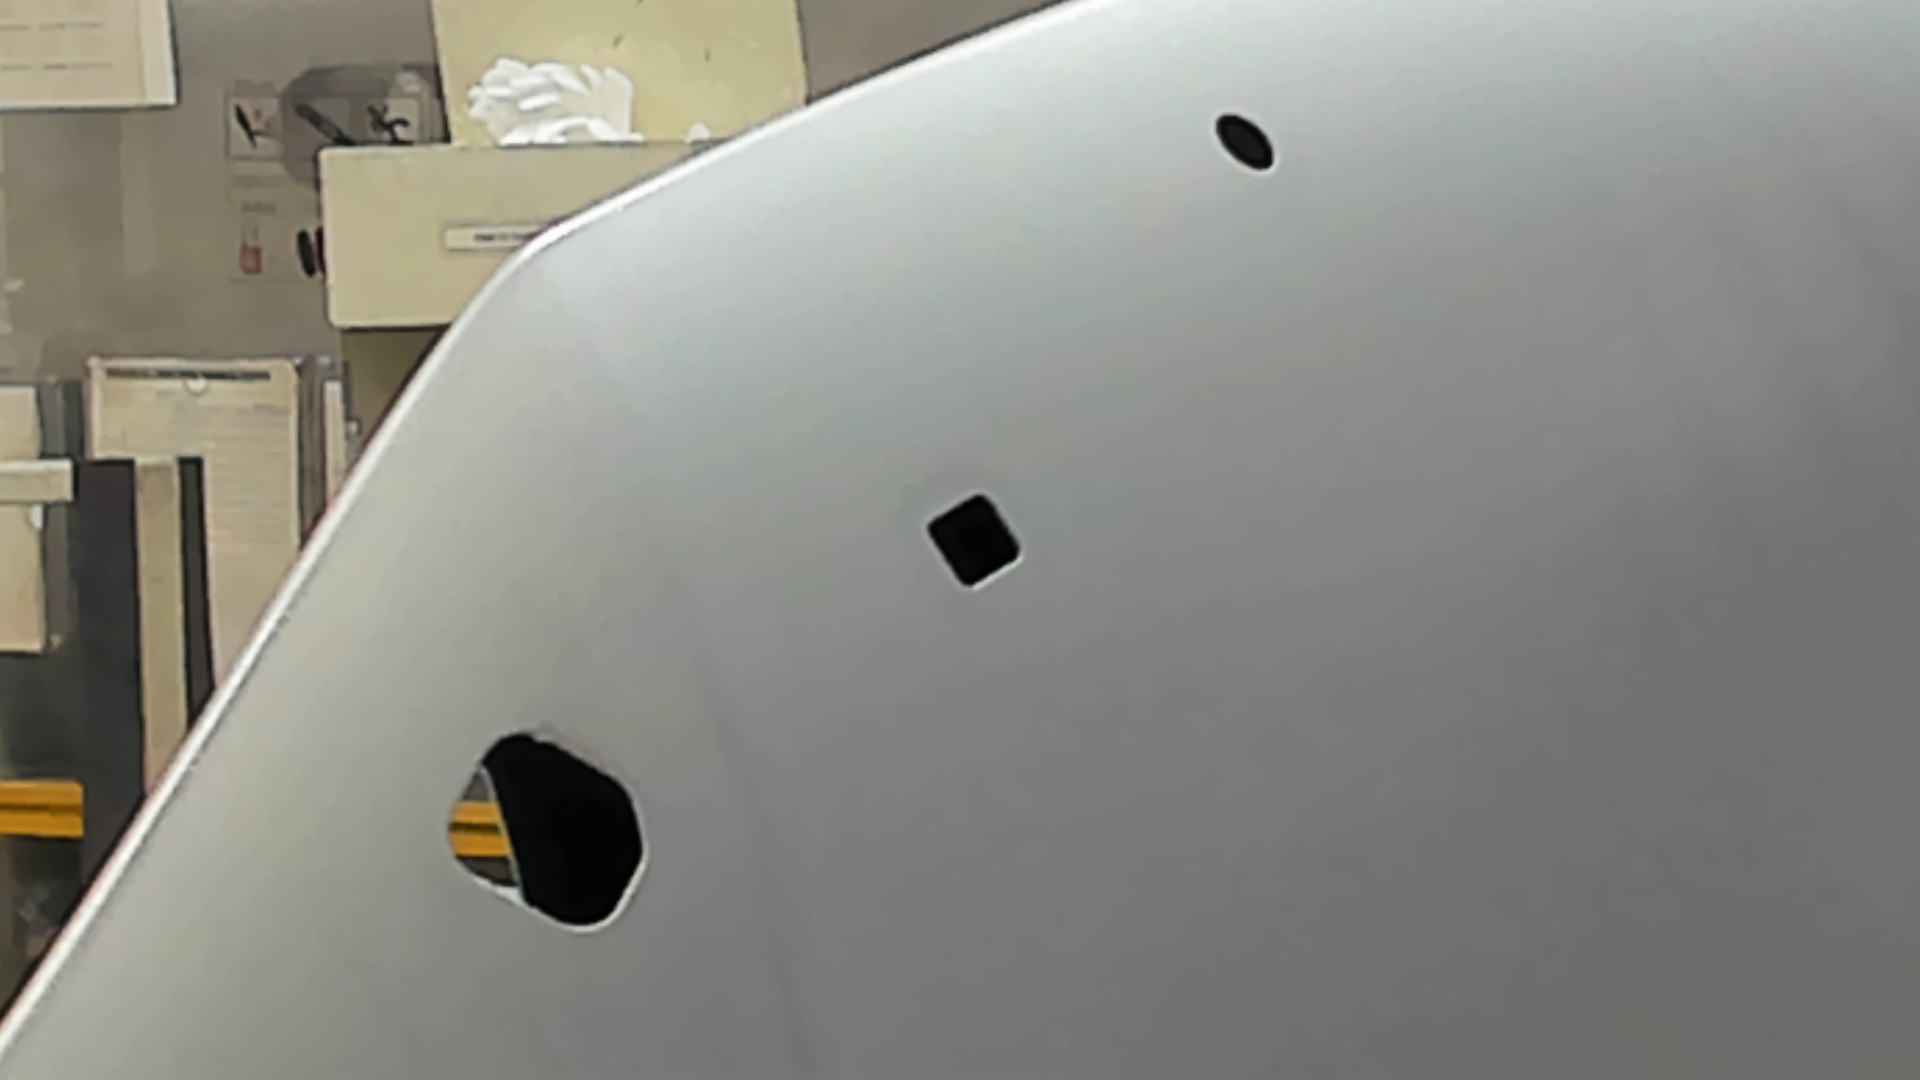Agujero: (923, 491, 1021, 589), (1215, 112, 1274, 171)
Agujerote: (444, 727, 649, 935)
